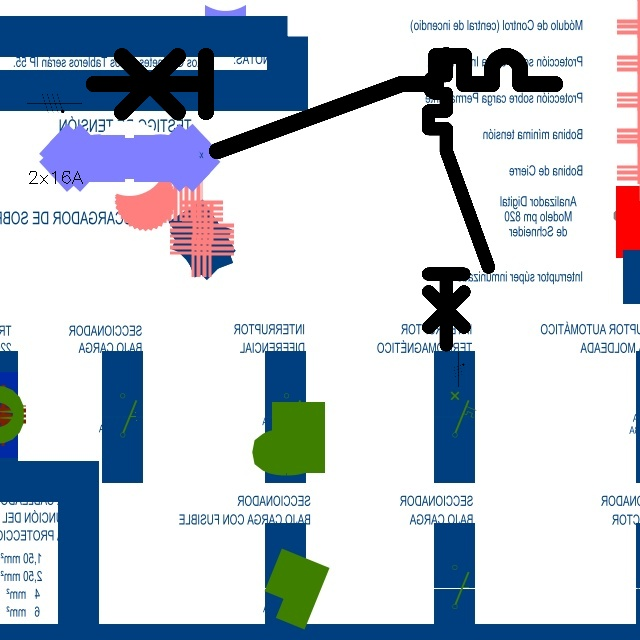interruptor_termomagnetico: (81, 44, 566, 163), (421, 46, 496, 352)
